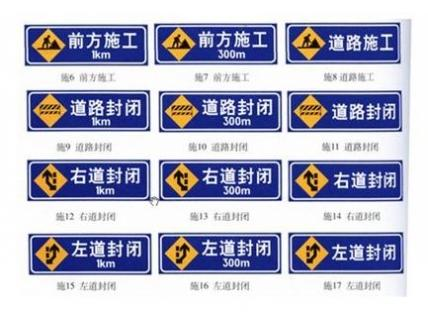sign: (27, 233, 153, 277), (152, 22, 278, 64), (157, 232, 282, 274), (24, 25, 149, 65), (288, 160, 403, 203), (27, 161, 147, 202), (160, 162, 283, 202), (27, 92, 151, 131), (288, 91, 403, 132), (289, 232, 404, 273), (160, 91, 280, 130), (287, 23, 401, 64)
